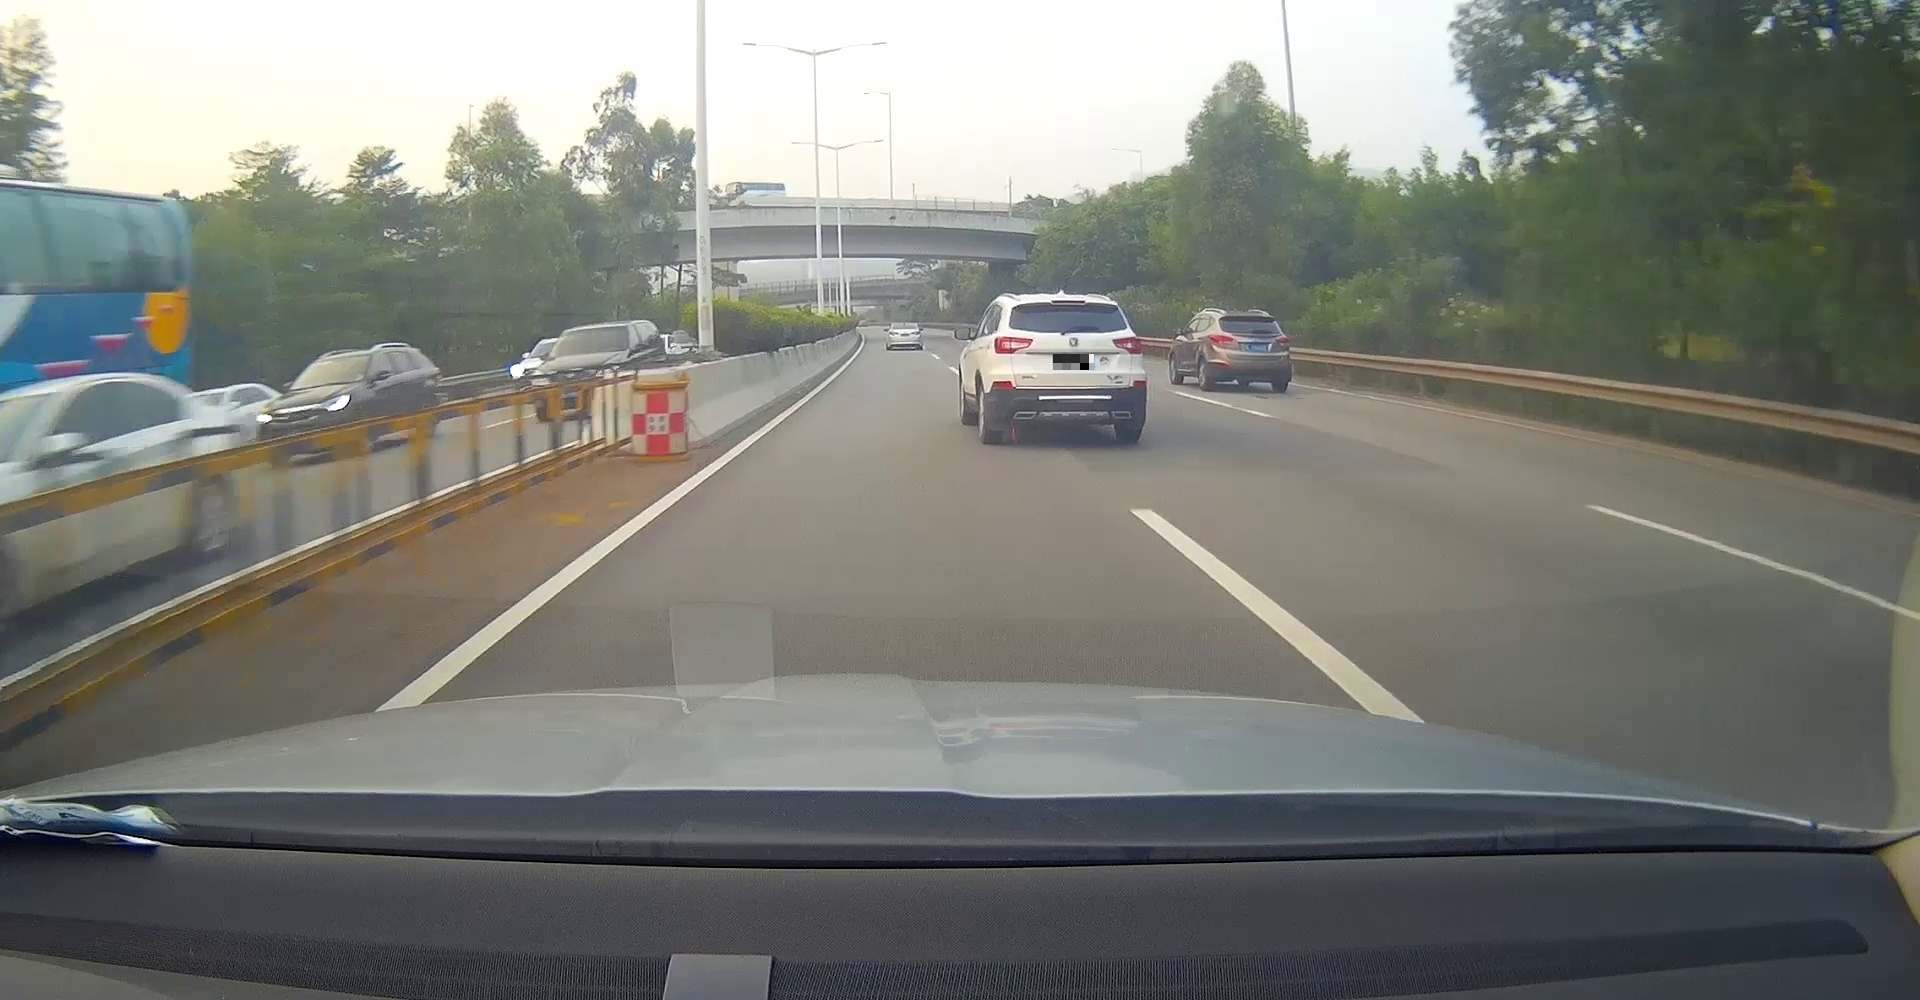L_light: (994, 336, 1034, 354), (1209, 334, 1234, 344), (889, 331, 898, 335)
R_light: (1112, 336, 1144, 354), (1274, 335, 1291, 344), (910, 331, 919, 335)
T_light: (1051, 299, 1086, 305), (1242, 315, 1258, 319), (902, 325, 907, 326)
day-left: (992, 294, 1147, 444)
day-no: (1208, 312, 1291, 393), (888, 324, 919, 350)
plate_1: (1053, 354, 1095, 371)
